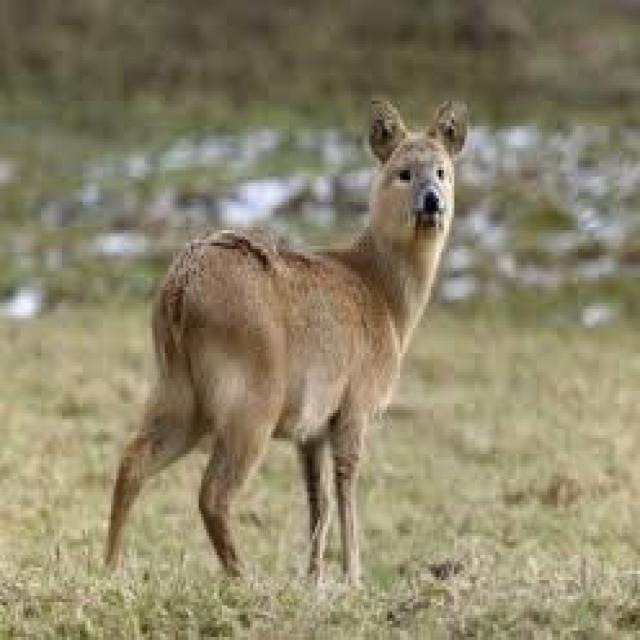elk: (134, 78, 490, 570), (312, 309, 368, 343)
